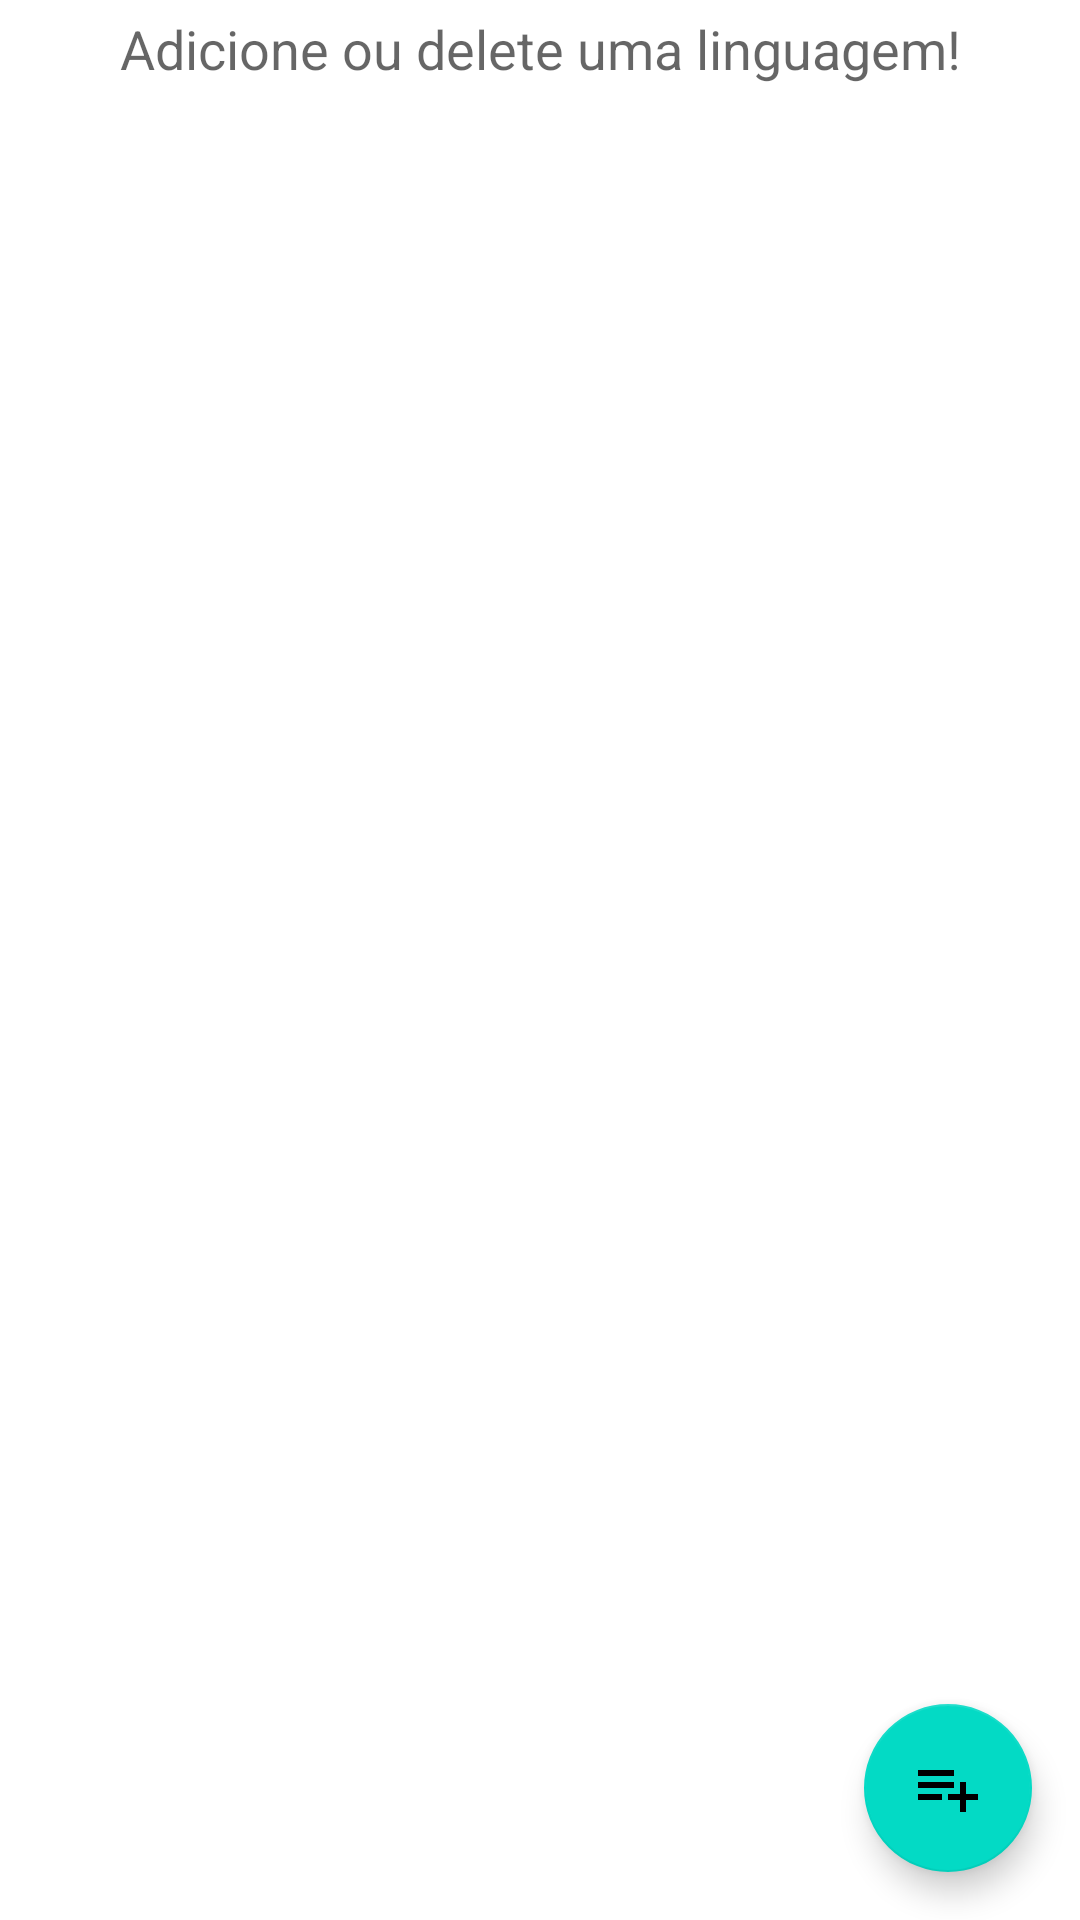

Named icons in this screenshot (1080*1920) and their bounding boxes, BBox(x1, y1, x2, y2):
Adicionar Linguagem: BBox(864, 1704, 1032, 1872)
